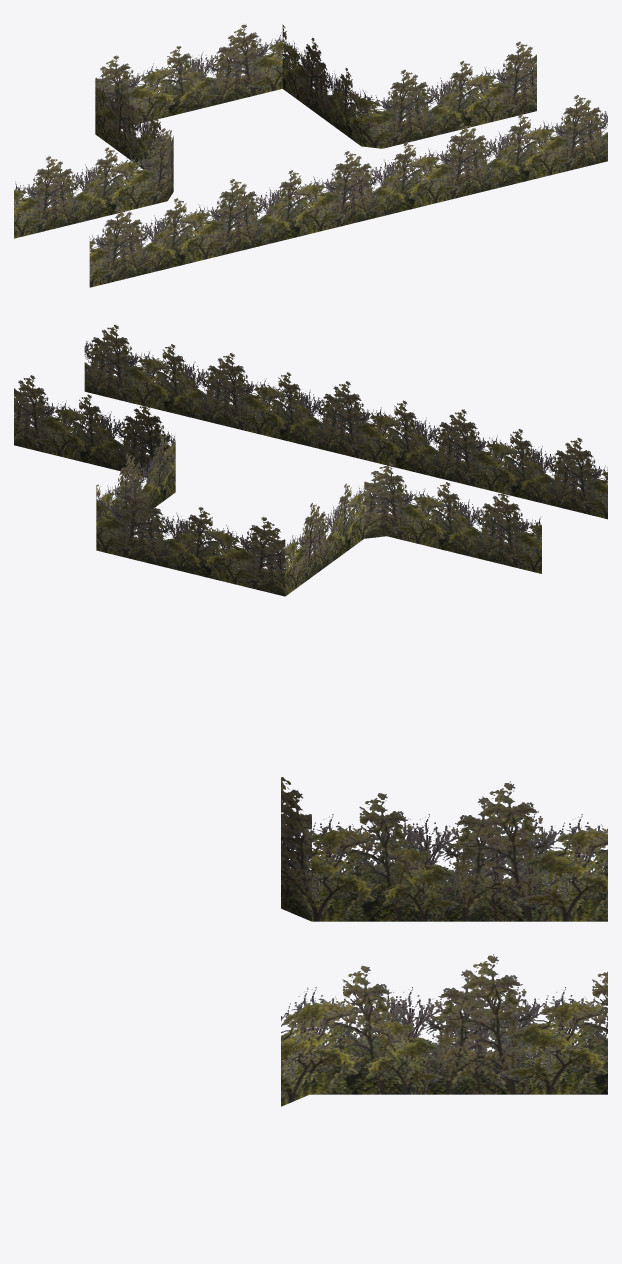
File: bushes0.glb
3 views of the same model, one above another, from view 1: azimuth 30°, elevation 25°; view 2: azimuth 150°, elevation 25°; view 3: azimuth 270°, elevation 25° (orthographic). The views are drawn at different scales.
Parts seen in each view (by area): view 1: Backgrounds_Background_0, Backgrounds_01_Background_0; view 2: Backgrounds_Background_0, Backgrounds_01_Background_0; view 3: Backgrounds_Background_0.
Part boxes in pixels (box(x1,y1,x2,y2)): Backgrounds_Background_0: box(14, 24, 536, 238); Backgrounds_01_Background_0: box(89, 95, 607, 287); Backgrounds_Background_0: box(14, 375, 541, 596); Backgrounds_01_Background_0: box(84, 324, 607, 519); Backgrounds_Background_0: box(281, 777, 607, 1106).
Bounding box in the file's own units: 191 × 26.49 × 99.22.
1 material, 1 textured.
